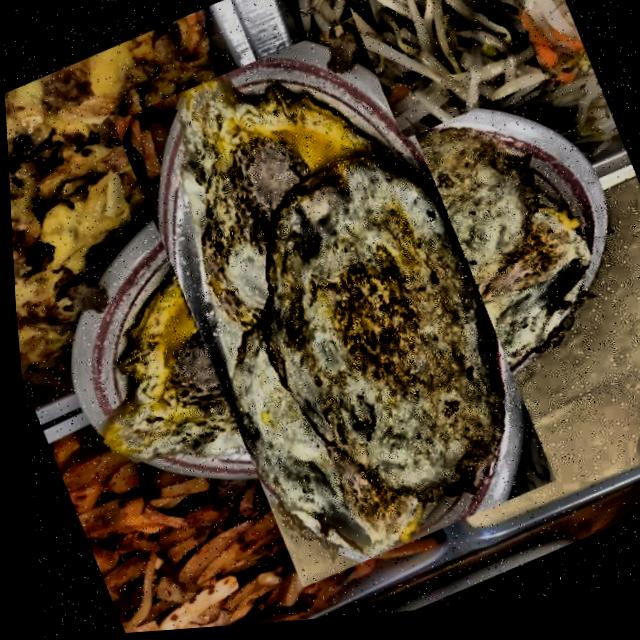Food: (69, 39, 592, 571), (307, 0, 561, 137)
